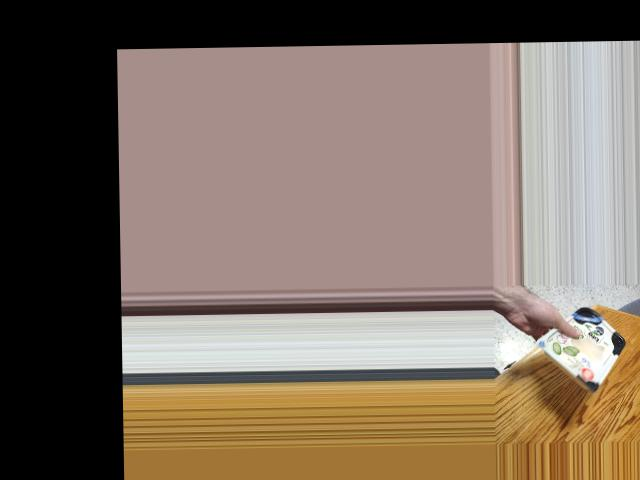cheese: (543, 317, 624, 380)
